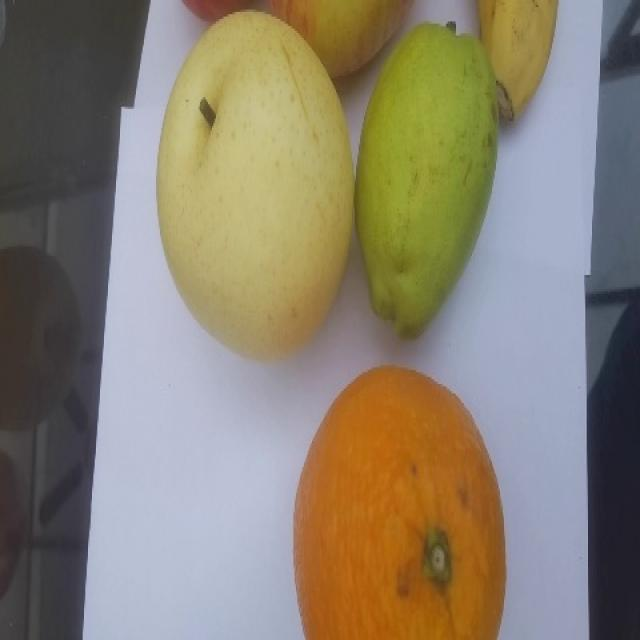Apple: (178, 0, 416, 74)
Banana: (465, 0, 561, 126)
Orange: (288, 358, 510, 640)
